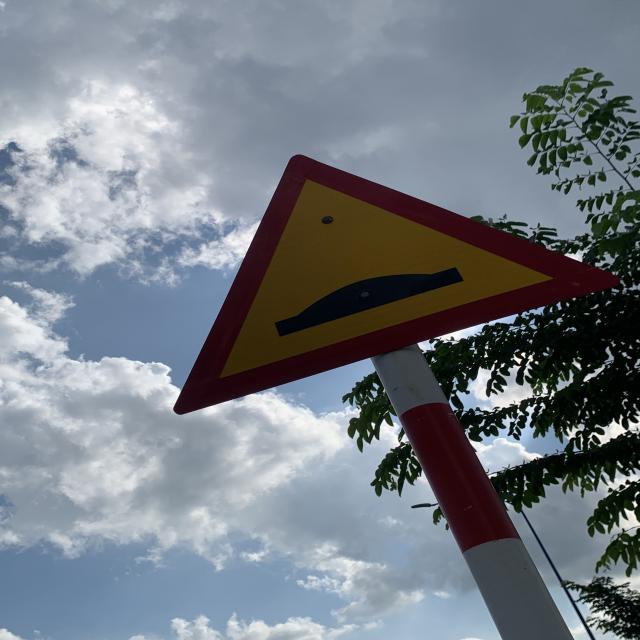Duong_Cong_Ben_Phai: (172, 157, 626, 420)
